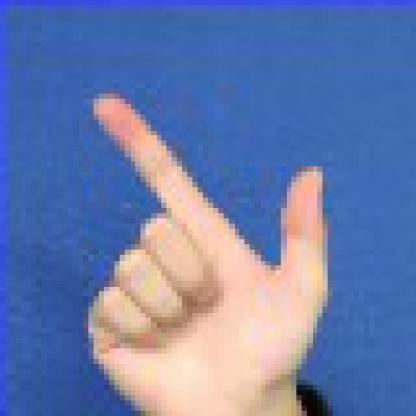seven: (46, 73, 380, 411)
